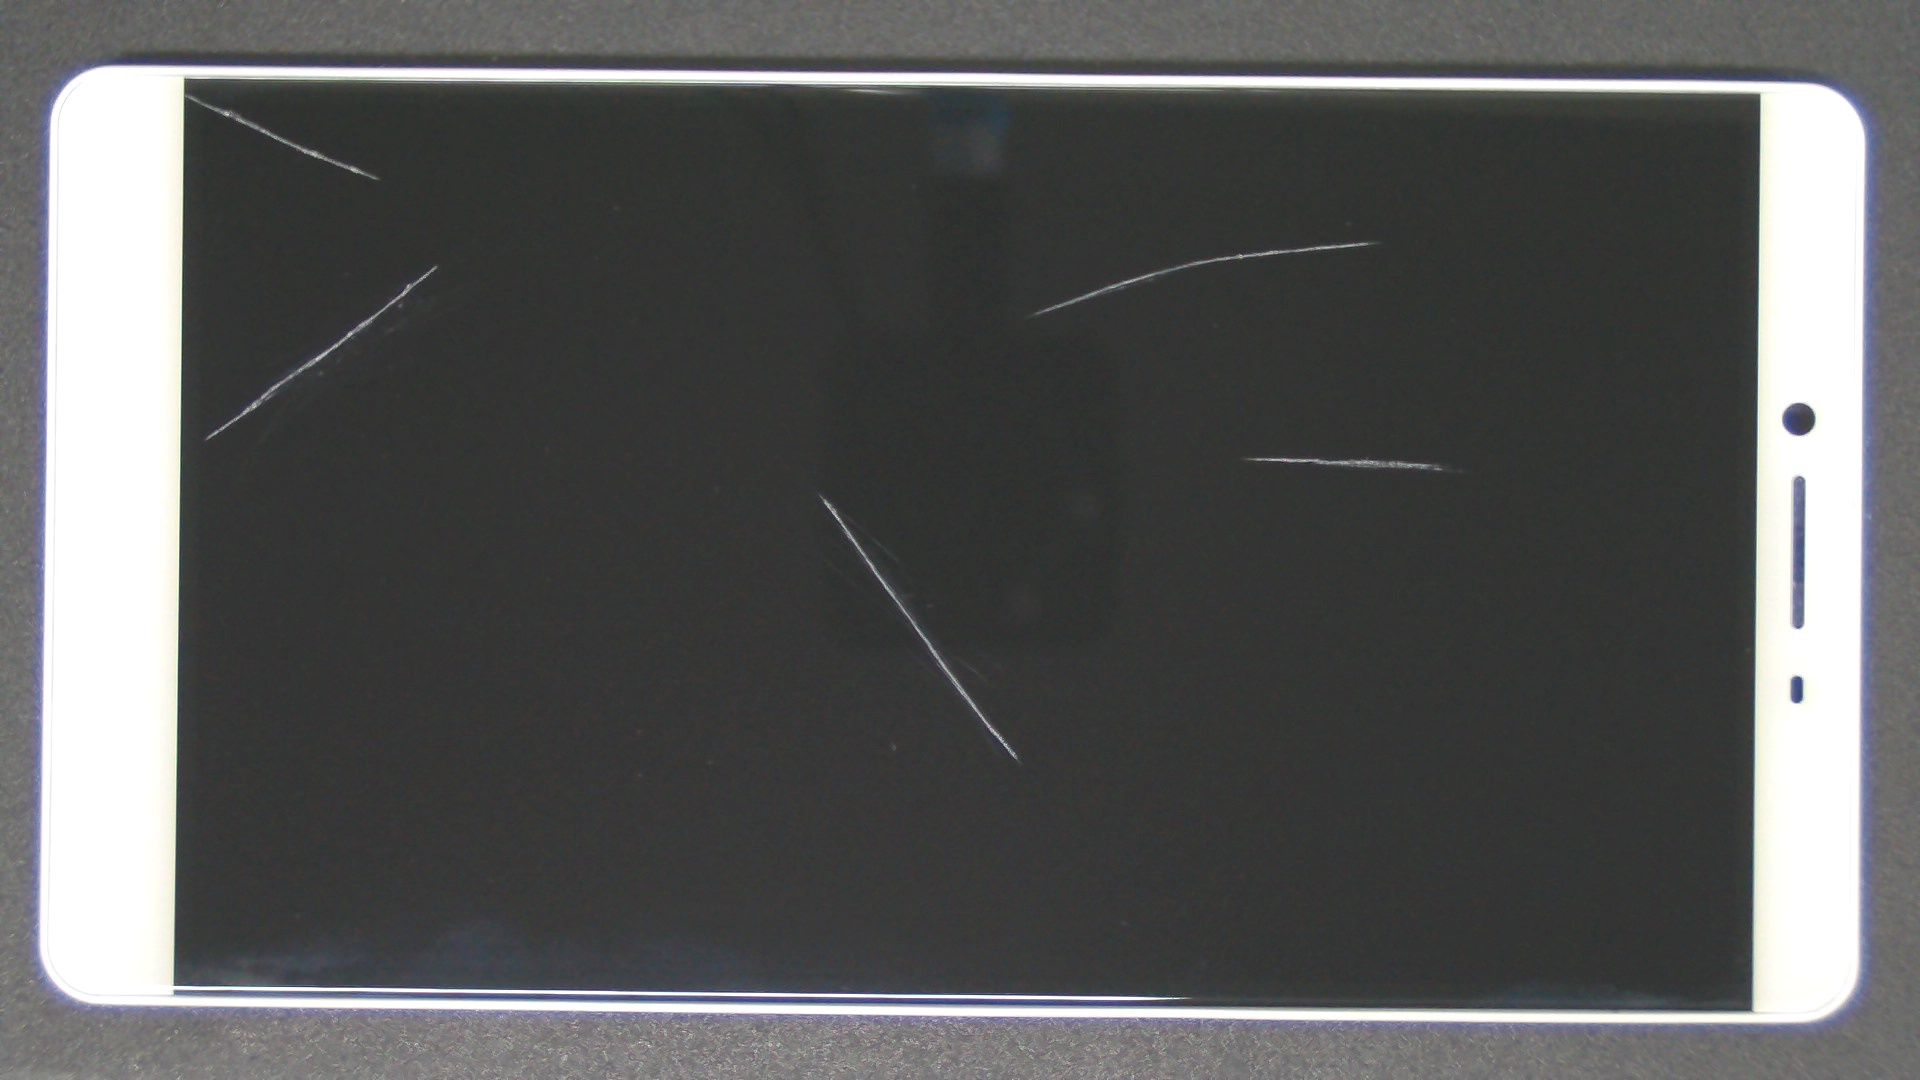oil: (625, 228, 1873, 686), (409, 245, 1225, 737), (680, 120, 1920, 363), (219, 132, 654, 398), (94, 46, 280, 140)
